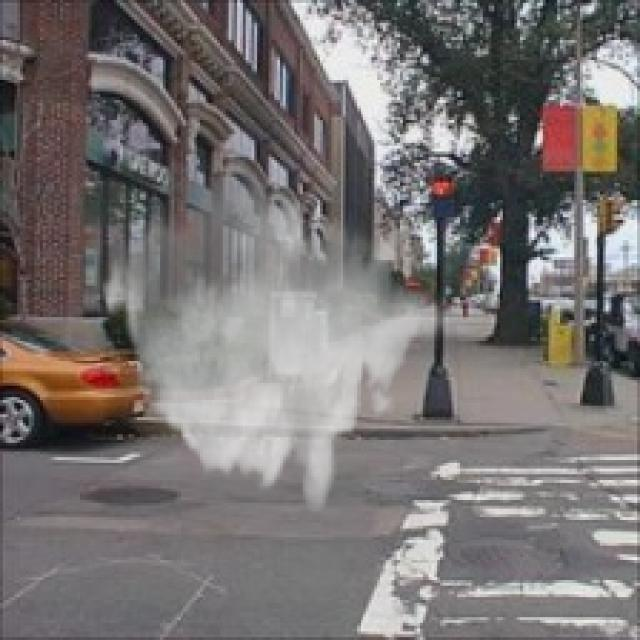Smoke: (97, 155, 449, 514)
